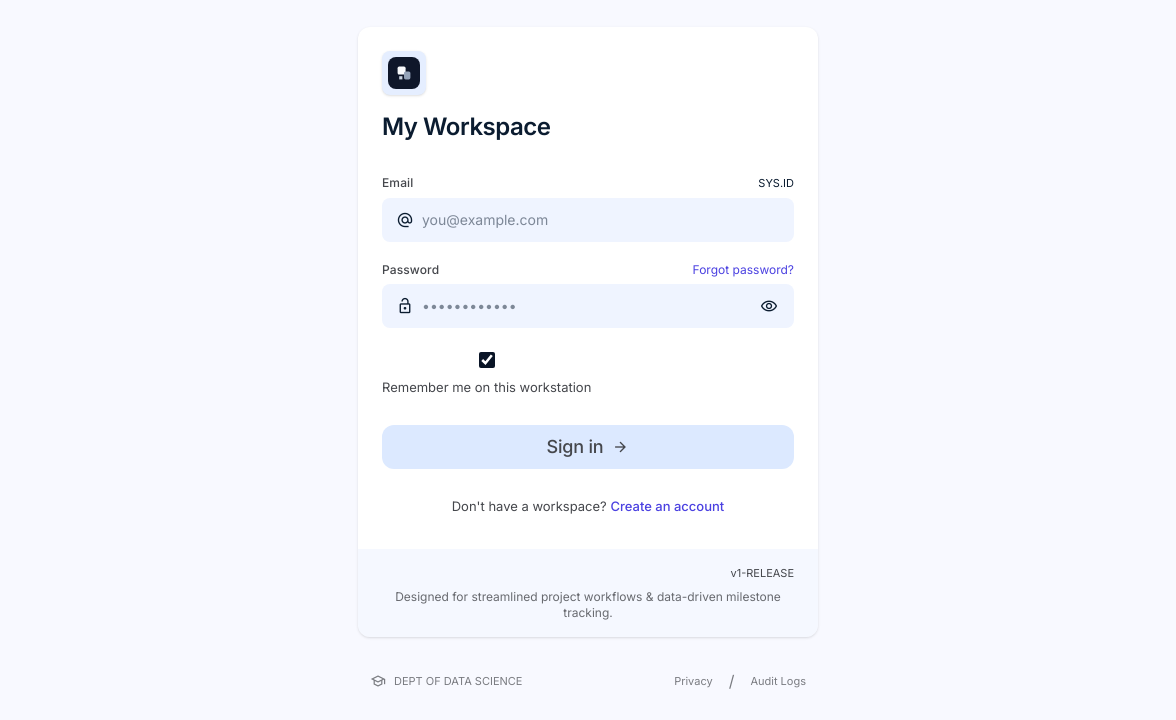
Test: projects › retries a failed load into an empty list
In the field labelled "Email": coordinates (588, 220) [382, 198, 794, 242], type "ada@example.com"
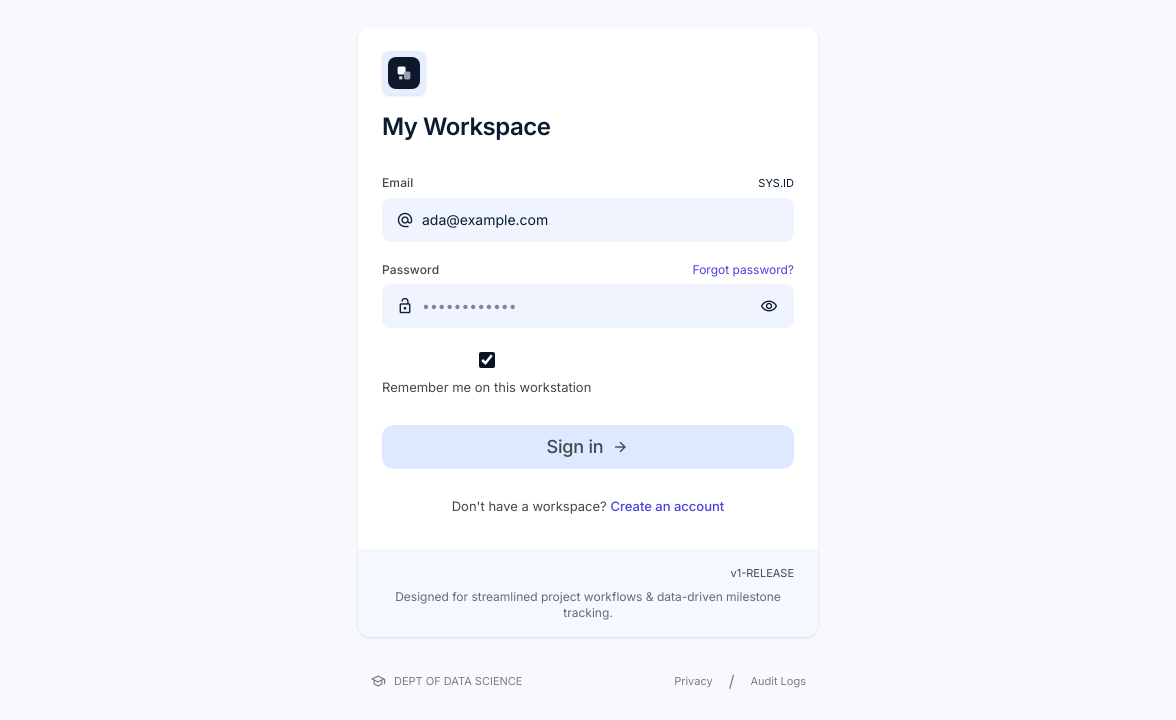
In the password field labelled "Password": coordinates (588, 306) [382, 284, 794, 328], type "password1"
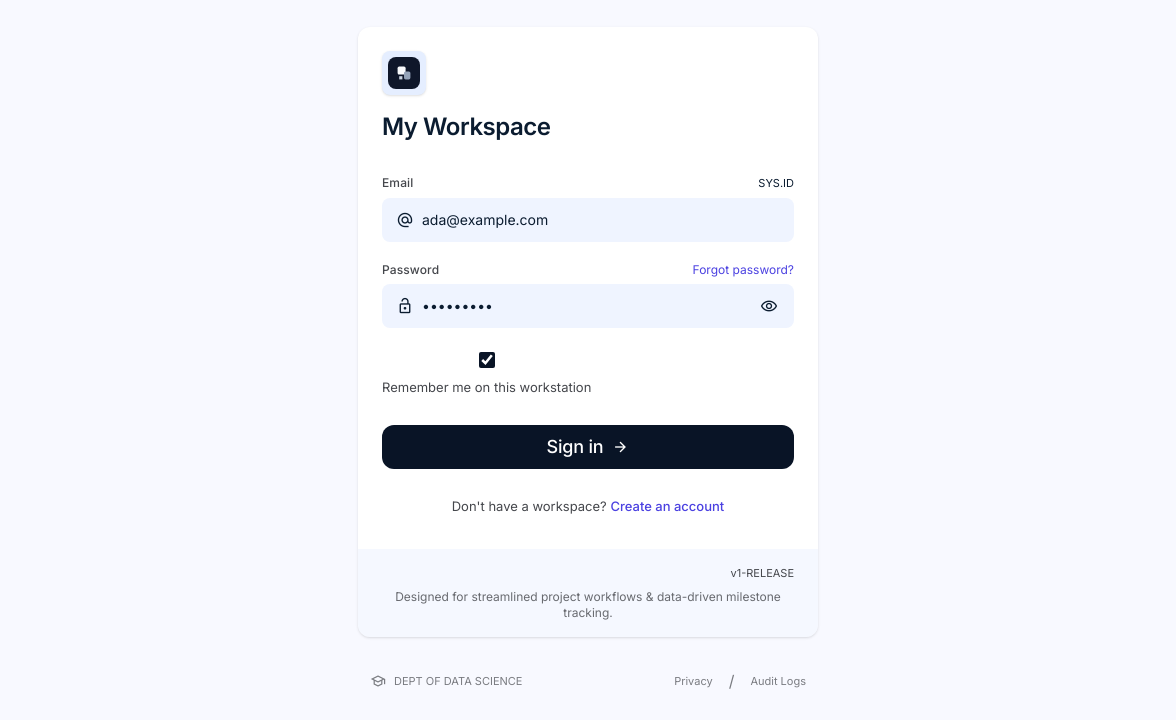
Click the button "Sign in": coordinates (588, 447) [382, 425, 794, 469]
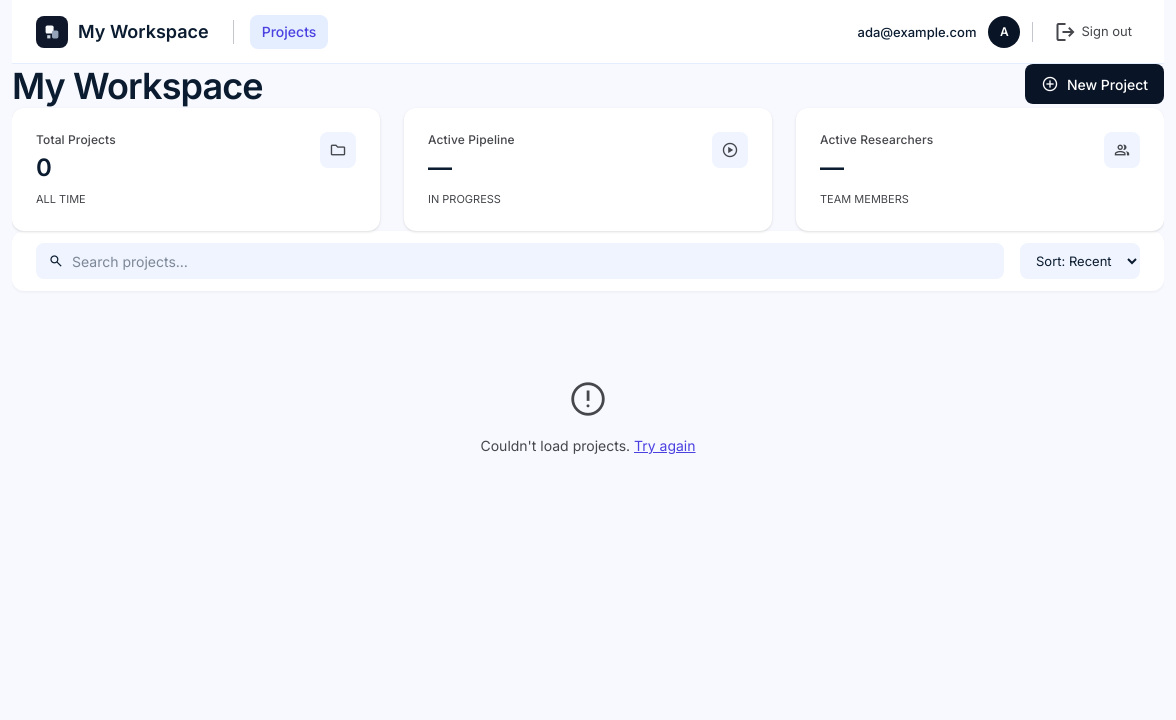
Check: the button "Sign out" is shown, box [1045, 16, 1140, 48]
Check: the button "Try again" is shown
Click the button "Try again": coordinates (665, 446) [634, 435, 696, 456]
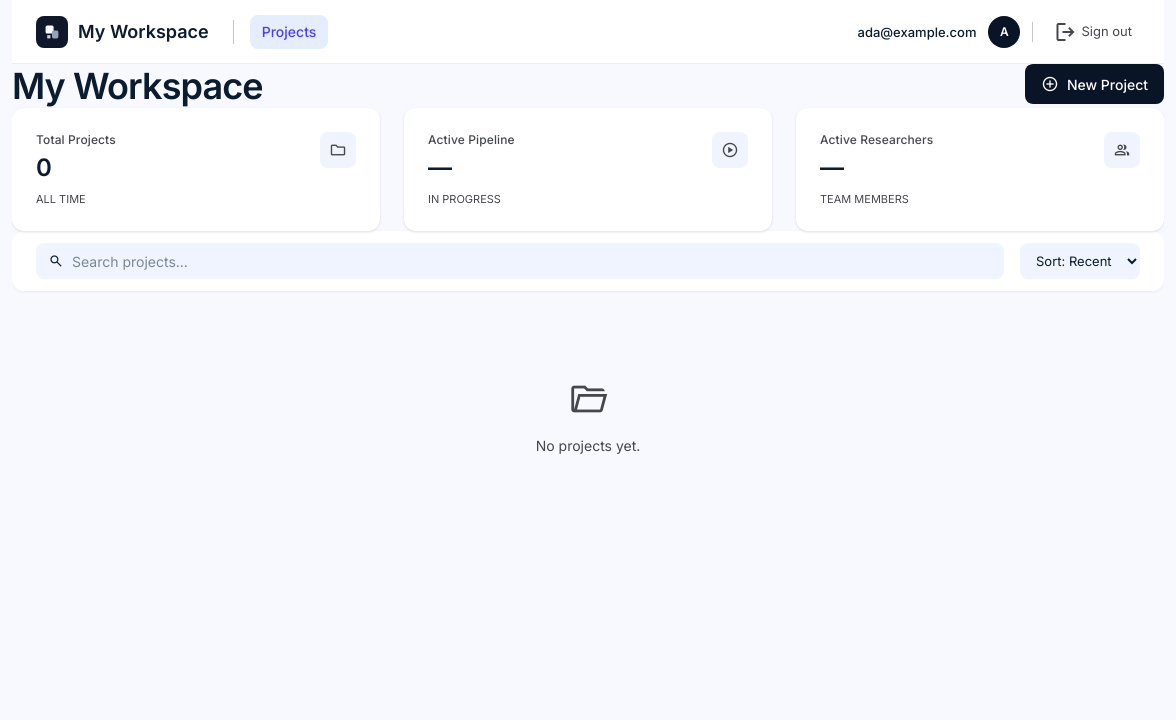
Check: the text "No projects yet." is shown, box [536, 435, 640, 456]
